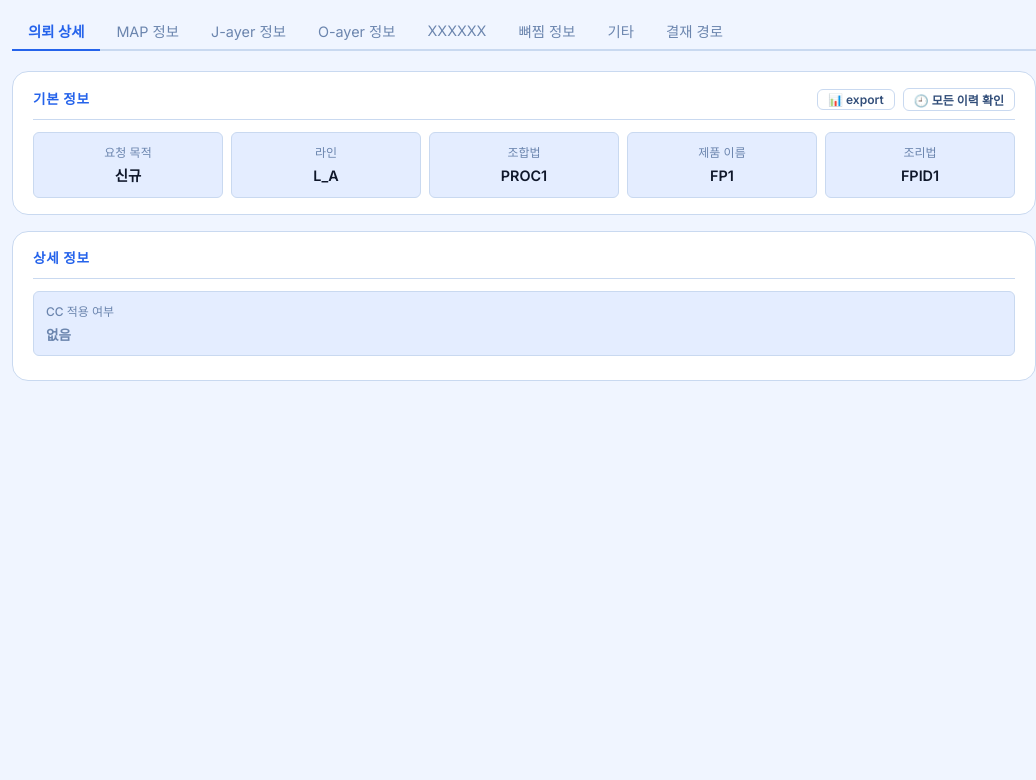
Test: 모든 이력 확인 — 버튼 › 창을 닫으면 사라진다
This screenshot has width=1036, height=780.
Click the button "🕘 모든 이력 확인" at (959, 100), box left=903, top=88, right=1015, bottom=111
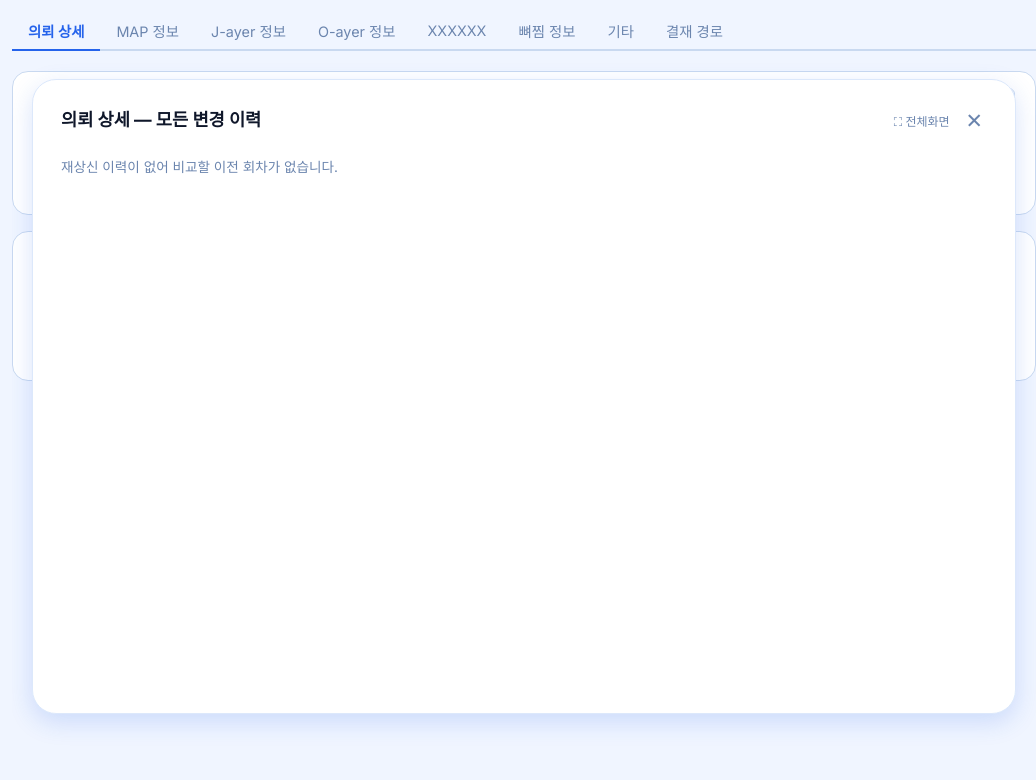
Click the button "✕" at (974, 120), box left=962, top=104, right=987, bottom=136
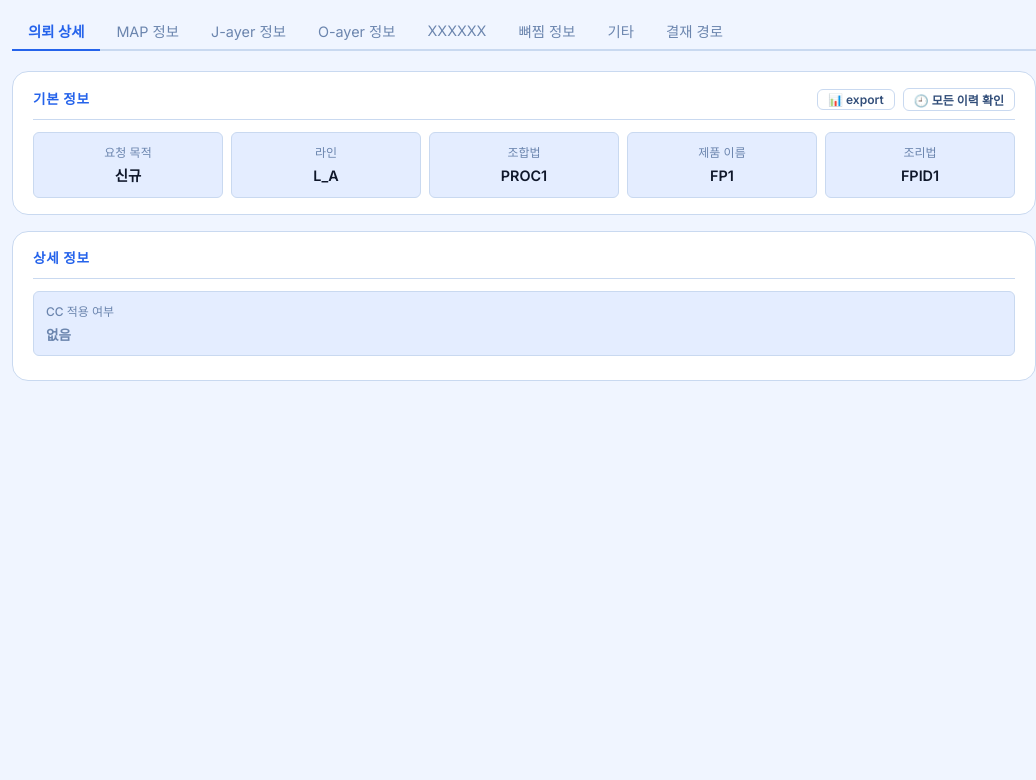
Result: the text "재상신 이력이 없어 비교할 이전 회차가 없습니다." is gone
